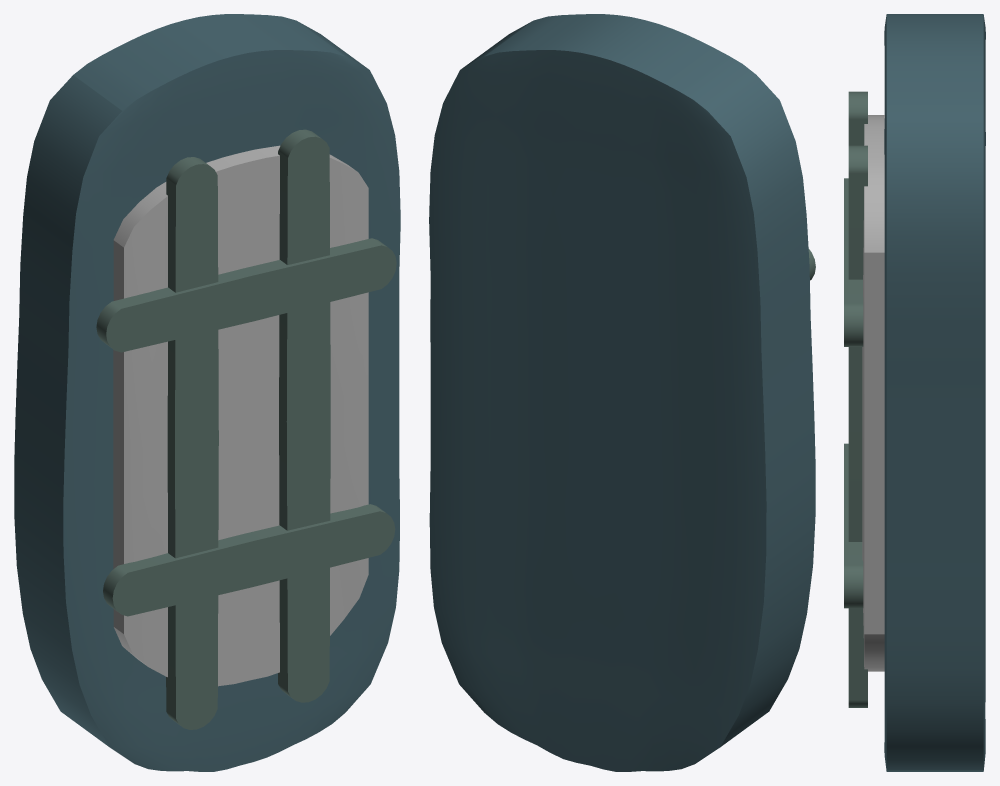
Rendered from Sewer_Bulb_v1.fbx.
The picture shows the model from 3 angles, left to right: view 1: azimuth 30°, elevation 25°; view 2: azimuth 150°, elevation 25°; view 3: azimuth 270°, elevation 25°; orthographic projection.
Visible parts, largest first — view 1: Bulb_Base, Bulb_Light, Grid, Grid.001, Grid.003, Grid.002; view 2: Bulb_Base; view 3: Bulb_Base, Bulb_Light, Grid, Grid.003, Grid.002, Grid.001.
Part boxes in pixels (bbox=[...]): Bulb_Base: bbox=[14, 14, 400, 771]; Bulb_Light: bbox=[113, 145, 368, 686]; Grid: bbox=[278, 129, 330, 702]; Grid.001: bbox=[166, 157, 218, 729]; Grid.003: bbox=[96, 238, 396, 352]; Grid.002: bbox=[103, 504, 395, 616]; Bulb_Base: bbox=[429, 14, 815, 771]; Bulb_Base: bbox=[884, 14, 985, 771]; Bulb_Light: bbox=[862, 115, 884, 671]; Grid: bbox=[848, 145, 867, 707]; Grid.003: bbox=[844, 178, 863, 346]; Grid.002: bbox=[844, 443, 863, 608]; Grid.001: bbox=[848, 91, 867, 145].
Bounding box in the file's own units: 15.36 × 30.95 × 5.66.
